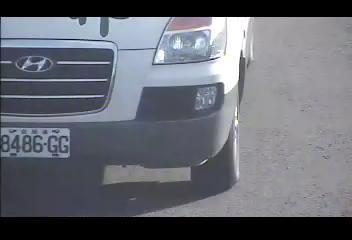plate: (1, 125, 70, 159)
